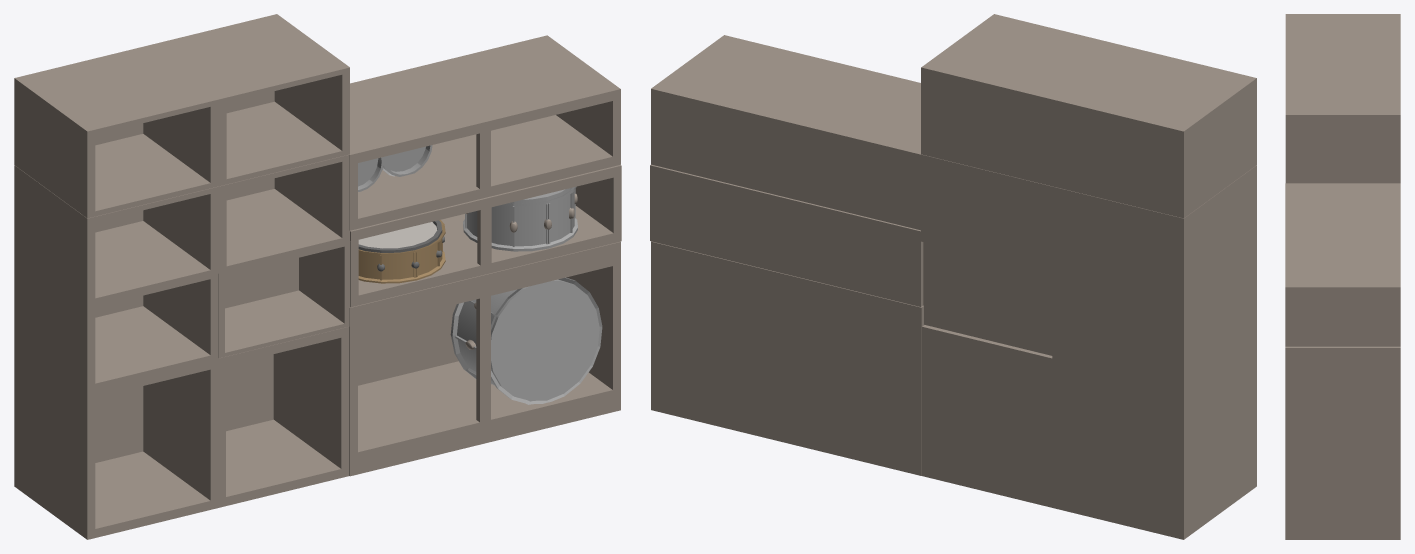
Rendered from InstrumentCupboard.fbx.
3 renders of one model, left to right at view 1: azimuth 30°, elevation 25°; view 2: azimuth 150°, elevation 25°; view 3: azimuth 270°, elevation 25°, orthographic. The views are drawn at different scales.
Parts seen in each view (by area): view 1: polySurface33, polySurface31, polySurface29, polySurface30, pCube19; view 2: polySurface33, polySurface31, polySurface29, polySurface30, pCube19; view 3: polySurface33, polySurface31.
Part boxes in pixels (x1,y1,x2,y2): polySurface33: (349,35,621,476); polySurface31: (14,14,349,305); polySurface29: (14,326,349,539); polySurface30: (14,250,218,390); pCube19: (218,241,350,358); polySurface33: (650,35,924,475); polySurface31: (921,14,1256,305); polySurface29: (922,325,1256,539); polySurface30: (1052,251,1256,390); pCube19: (923,242,1052,355); polySurface33: (1285,183,1400,539); polySurface31: (1285,14,1400,183).
Bounding box in the file's own units: 329 × 241 × 78.51.
